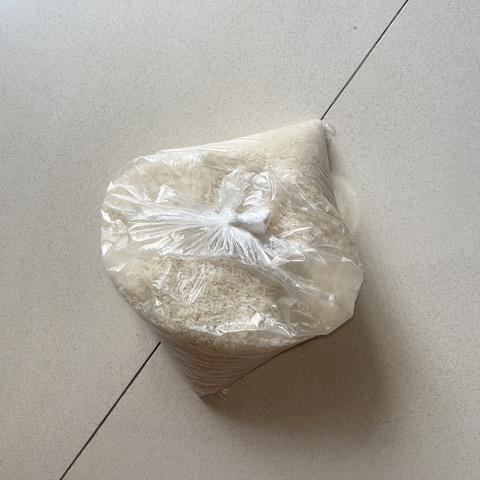rice: (98, 117, 367, 404)
